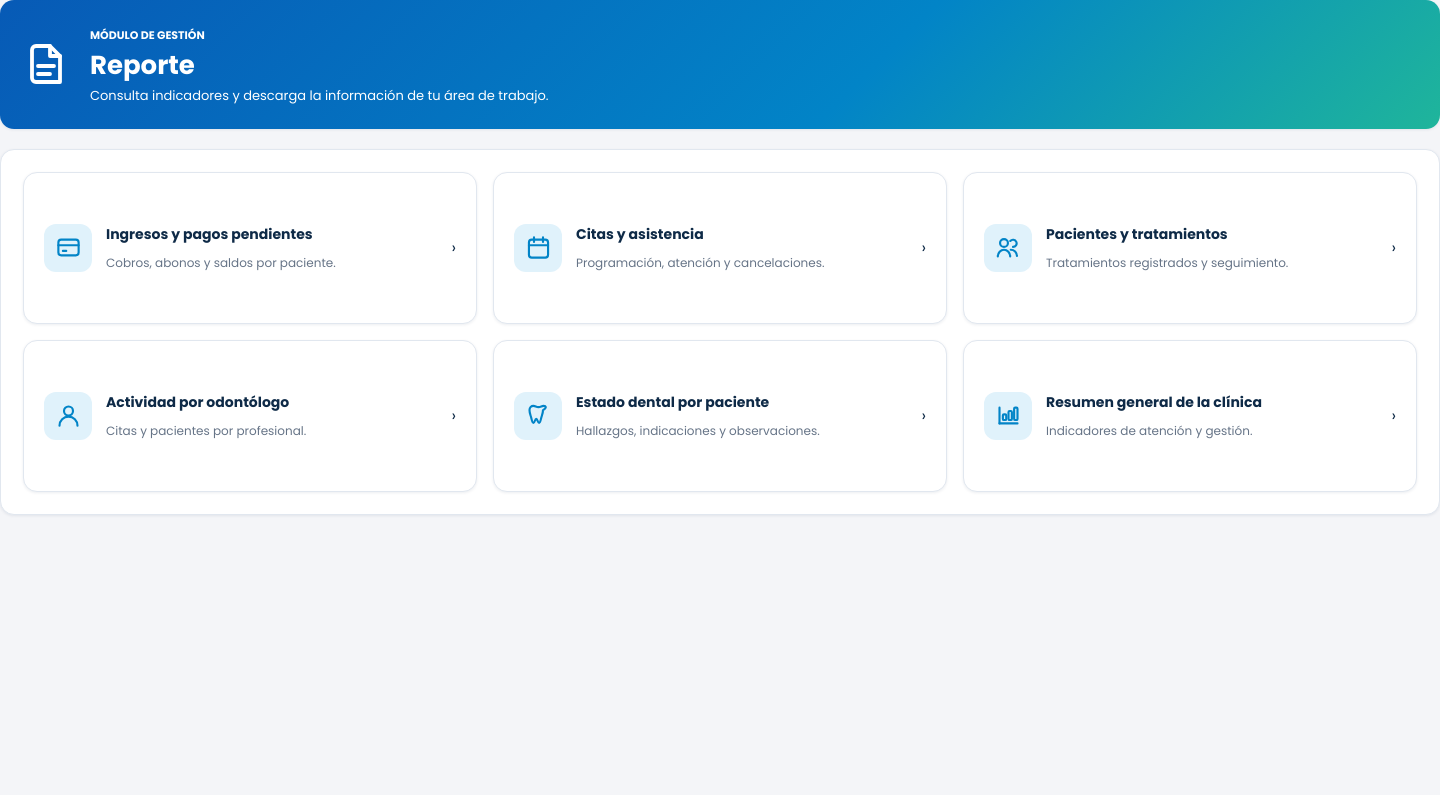
Scenario: Pantalla de reportes › muestra seis tarjetas, filtra, exporta toda la selección y permite volver
Click the button "Ingresos y pagos pendientes" at (68, 248), box [23,172,477,324]
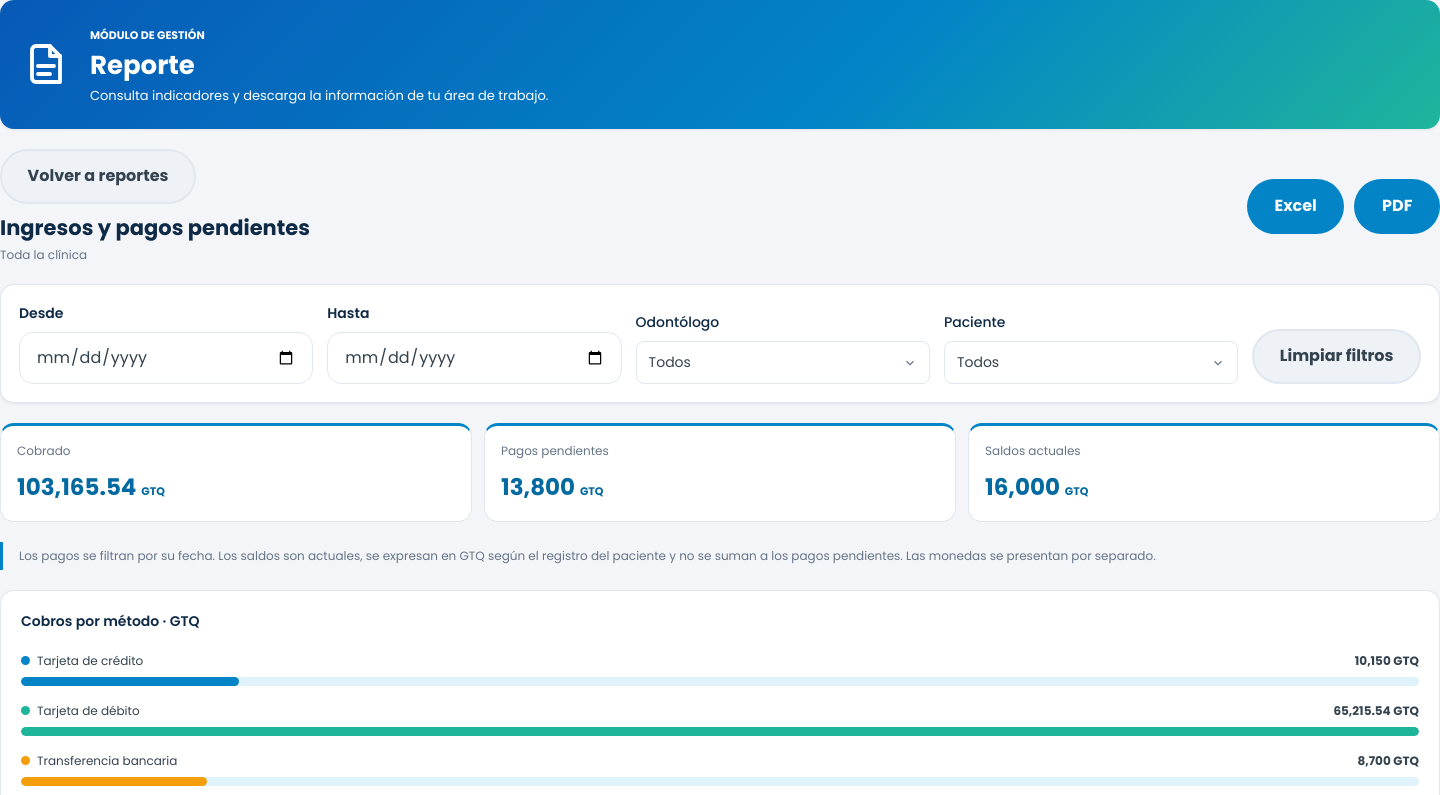
Select "María Fernanda López García · EXP-2026-00128" in the dropdown labelled "Paciente" at (1091, 362), box [944,341,1238,384]
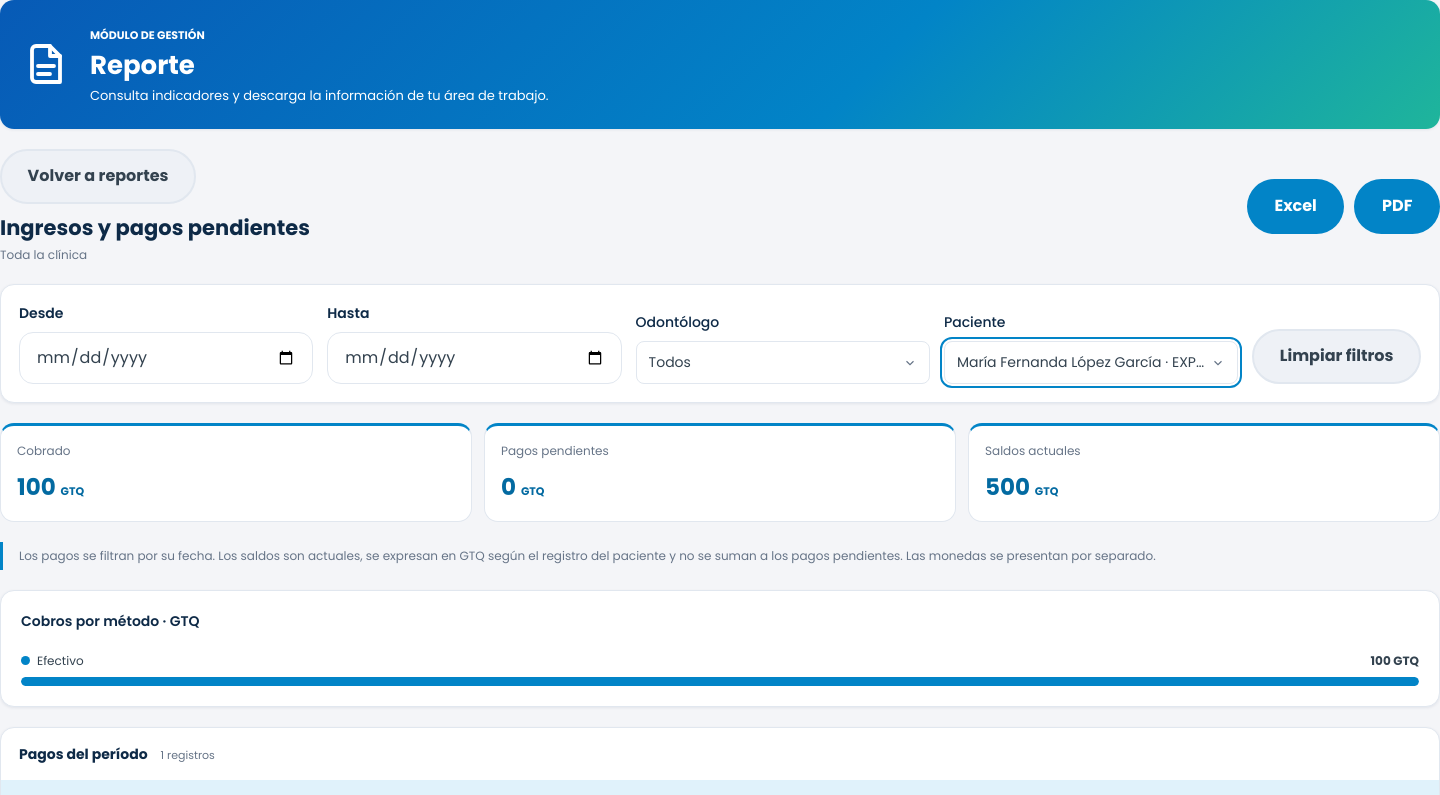
Click the button "Excel" at (1296, 206), box [1247,179,1344,234]
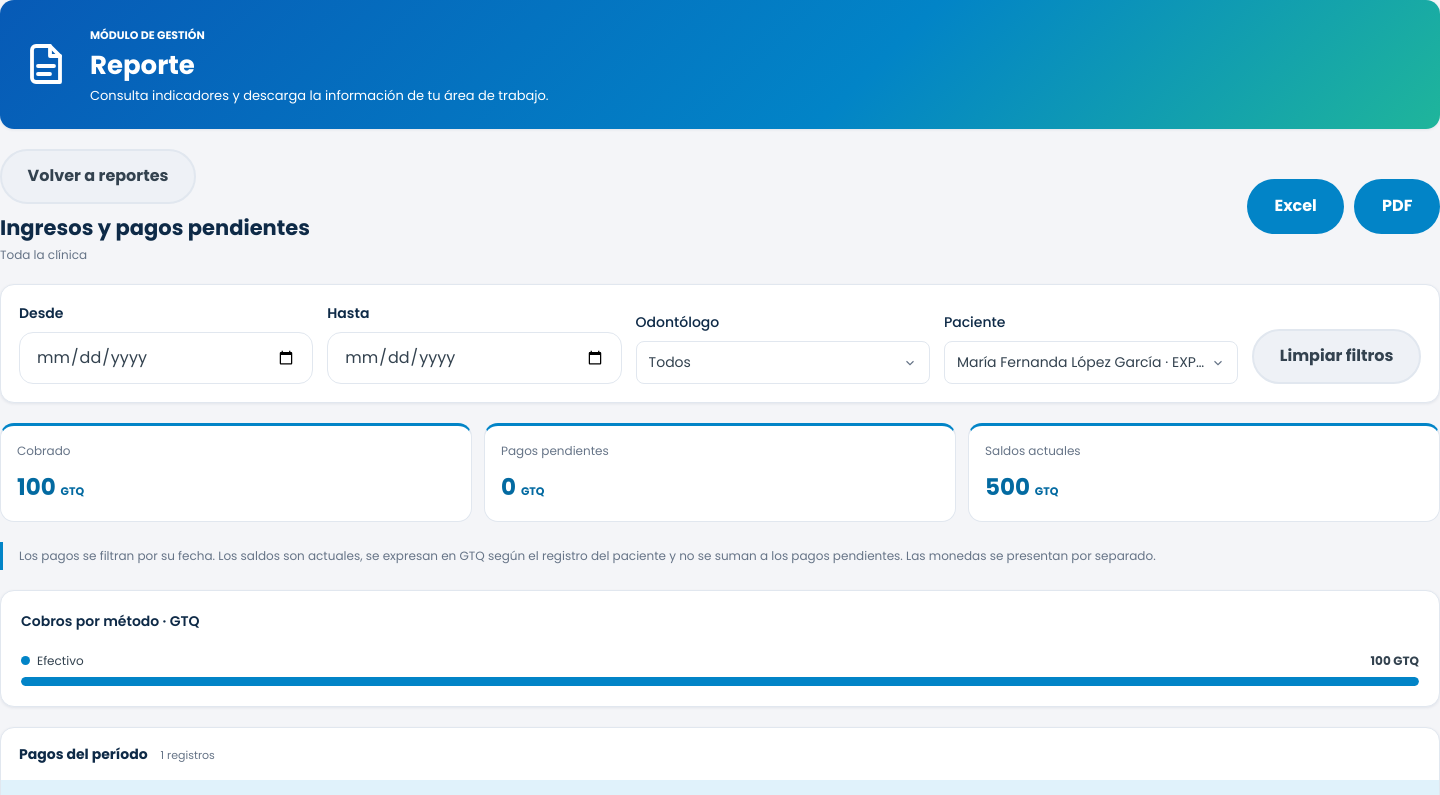
Click the button "PDF" at (1397, 206), box [1354,179,1439,234]
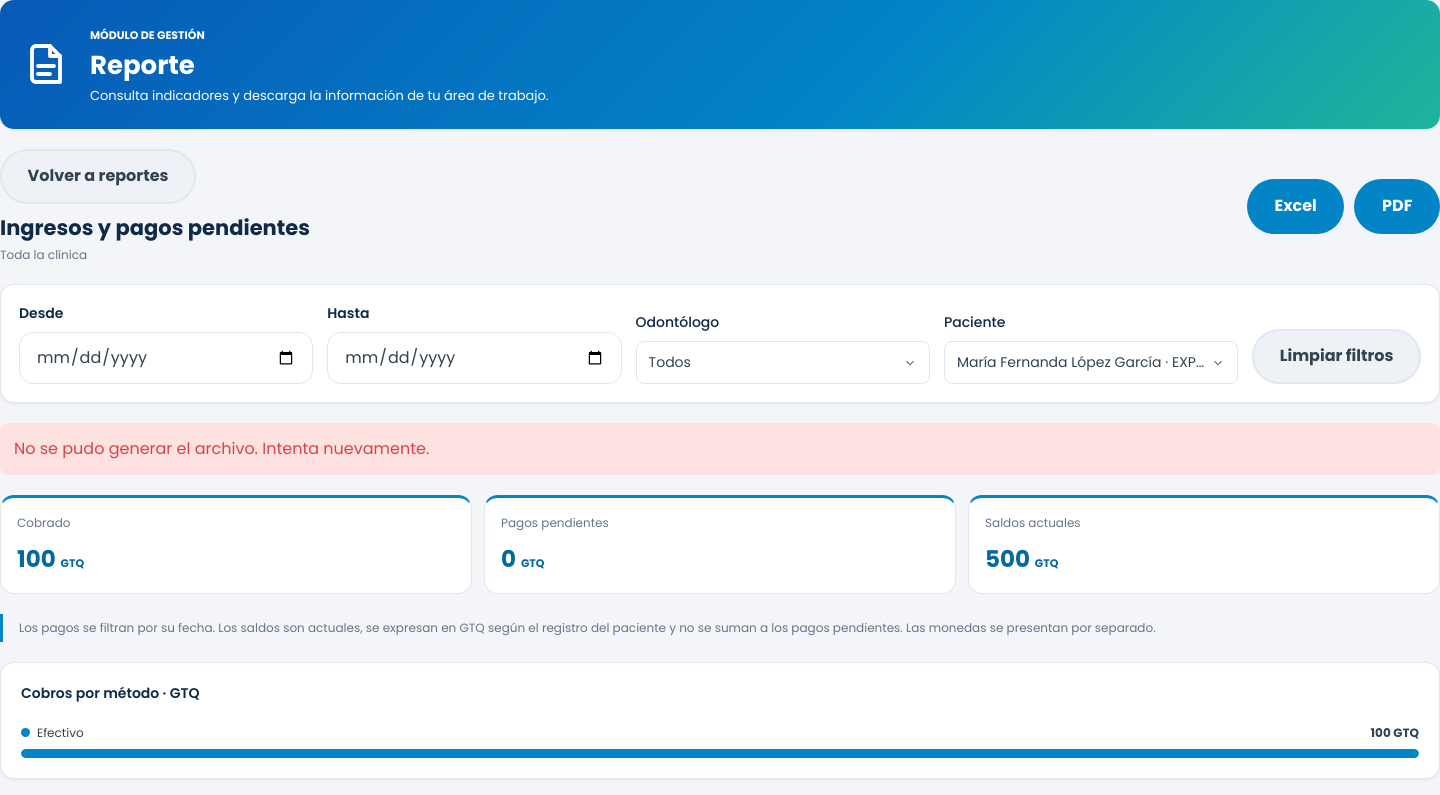
Now the message shows "No se pudo generar", box [14,437,429,460]
Click the button "PDF" at (1397, 206), box [1354,179,1439,234]
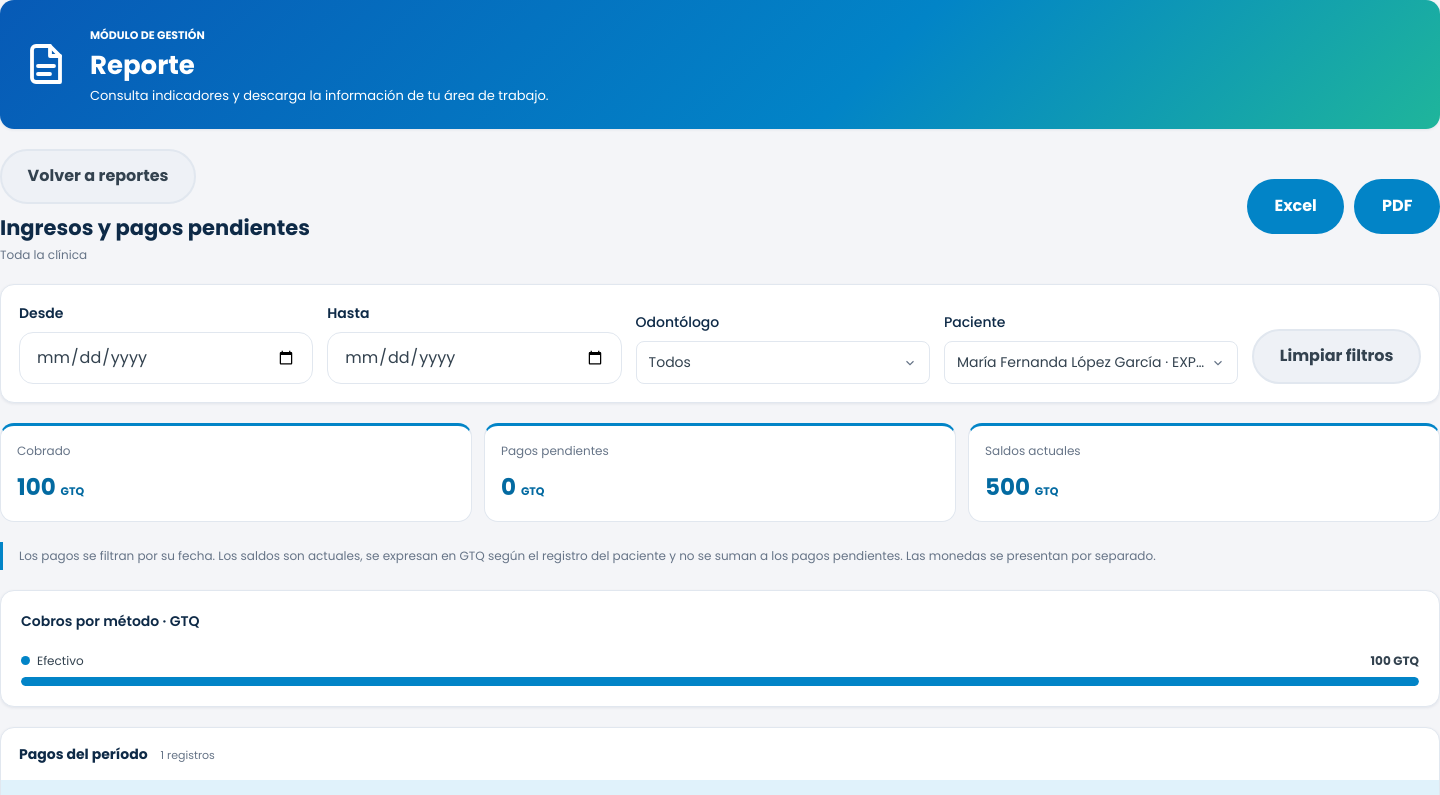
Now the message "No se pudo generar el archivo. Intenta nuevamente." is gone
Click the button "Volver a reportes" at (98, 176), box [0,149,196,204]
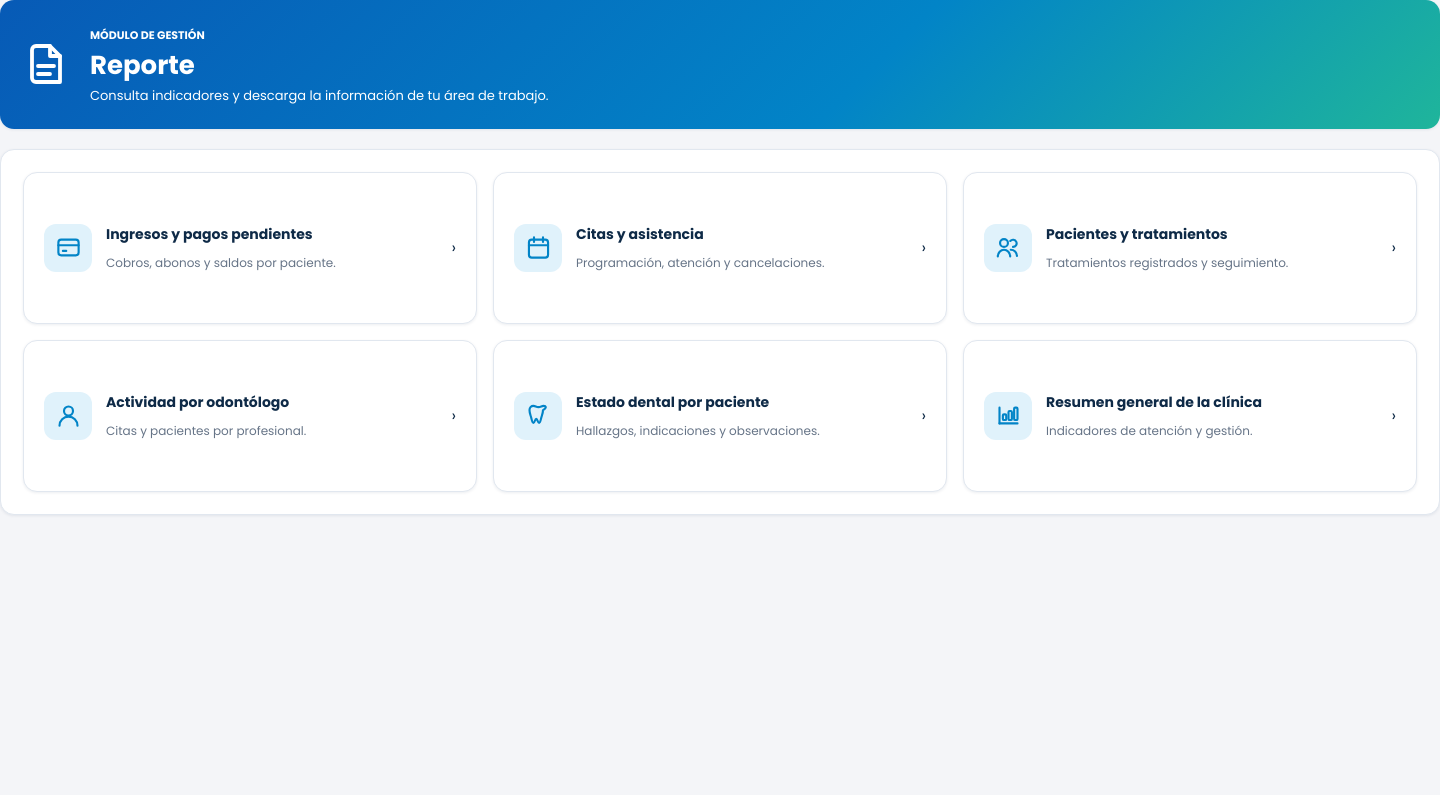
Now the button "Resumen general" is shown, box [963,340,1417,492]
